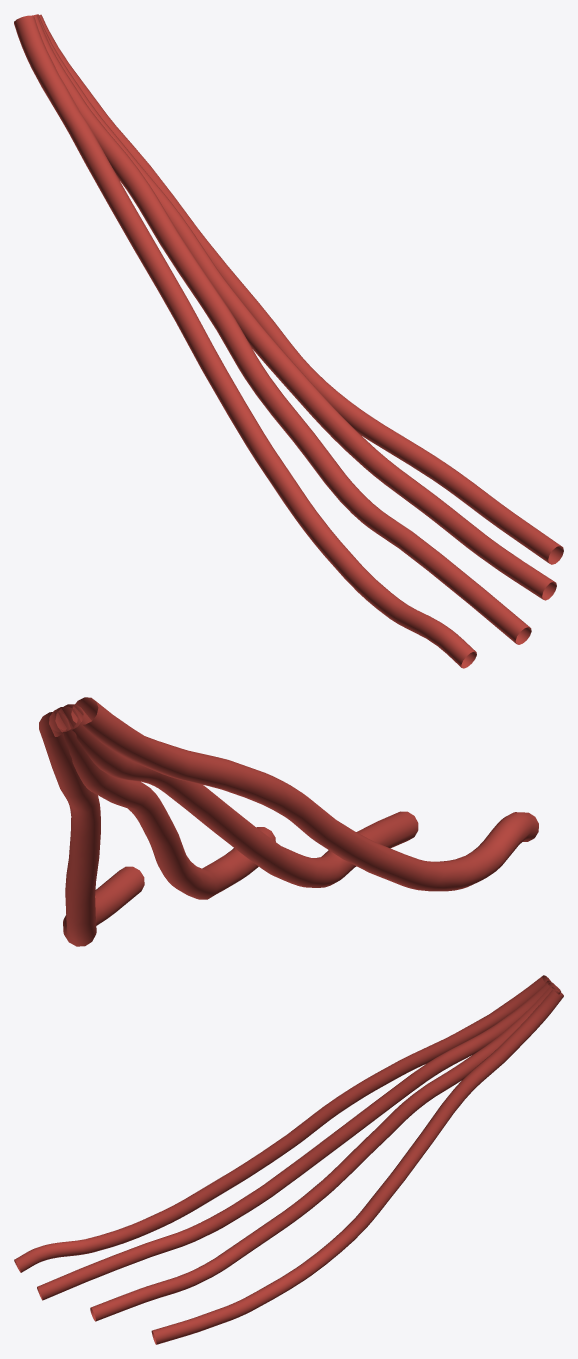
The model's file is musculos-tendon-of-extensor-digitorum-longus-l.glb.
3 renders of one model, top to bottom at view 1: azimuth 30°, elevation 25°; view 2: azimuth 150°, elevation 25°; view 3: azimuth 270°, elevation 25°, orthographic. The views are drawn at different scales.
Parts seen in each view (by area): view 1: Tendon of extensor digitorum longus.l; view 2: Tendon of extensor digitorum longus.l; view 3: Tendon of extensor digitorum longus.l.
Part boxes in pixels (x1,y1,x2,y2): Tendon of extensor digitorum longus.l: (14,14,563,668); Tendon of extensor digitorum longus.l: (39,697,538,946); Tendon of extensor digitorum longus.l: (14,975,563,1344).
Bounding box in the file's own units: 0.0571 × 0.0821 × 0.1445.
